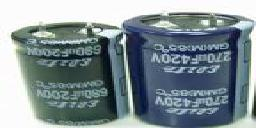Electrolytic Capacitor: (122, 12, 256, 127), (8, 22, 126, 128)
